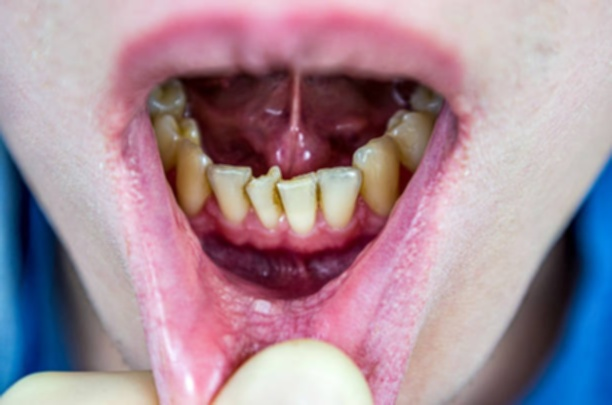Gingivitis: (217, 240, 353, 280)
